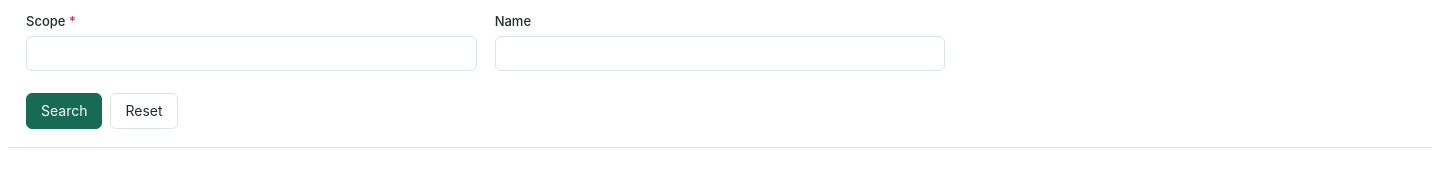
Test: instant validation blocks invalid filters and reset clears errors and searches exactly once
The image size is (1440, 185).
Type "bad" into the field labelled "Name".
click(720, 54); type("bad")  # box top-left (495, 36), bottom-right (945, 71)
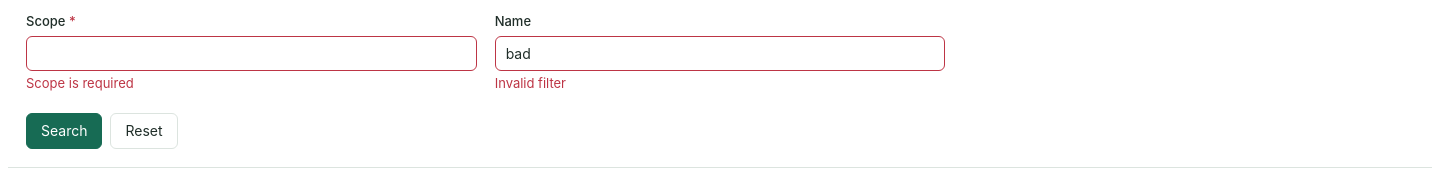
Expected: the text "Scope is required" is shown, top-left (26, 75), bottom-right (134, 91)
Expected: the text "Invalid filter" is shown, top-left (495, 75), bottom-right (566, 91)
Type "all" into the field labelled "Scope".
click(251, 54); type("all")  # box top-left (26, 36), bottom-right (477, 71)
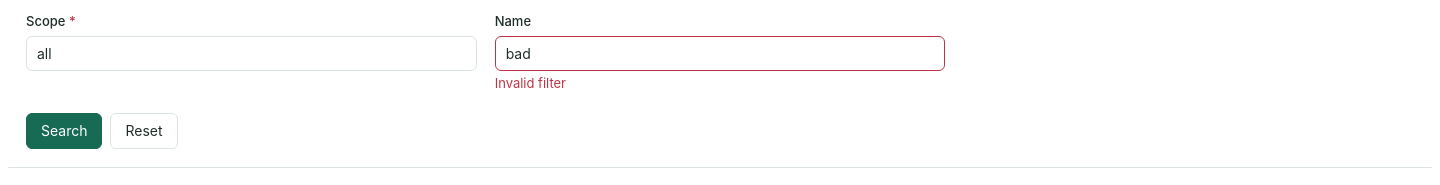
Replace the text in the field labelled "Name" with "good" at {"x": 720, "y": 54}, box top-left (495, 36), bottom-right (945, 71)
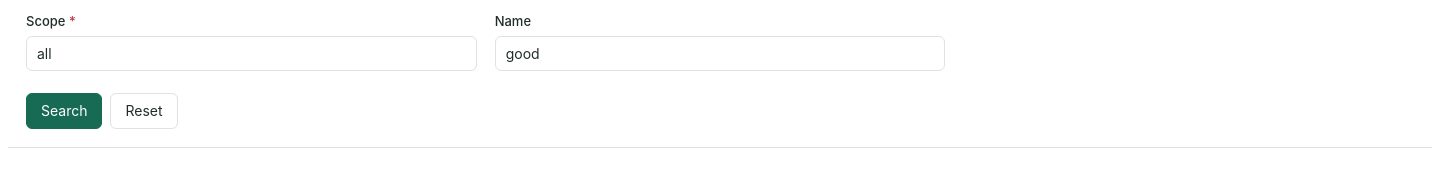
Replace the text in the field labelled "Name" with "bad" at {"x": 720, "y": 54}, box top-left (495, 36), bottom-right (945, 71)
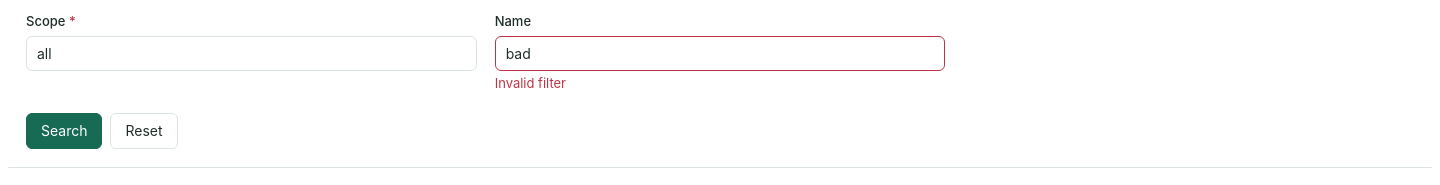
Expected: the text "Invalid filter" is shown, top-left (495, 75), bottom-right (566, 91)
Click the button "Reset".
click(144, 131)  # box top-left (110, 113), bottom-right (178, 149)
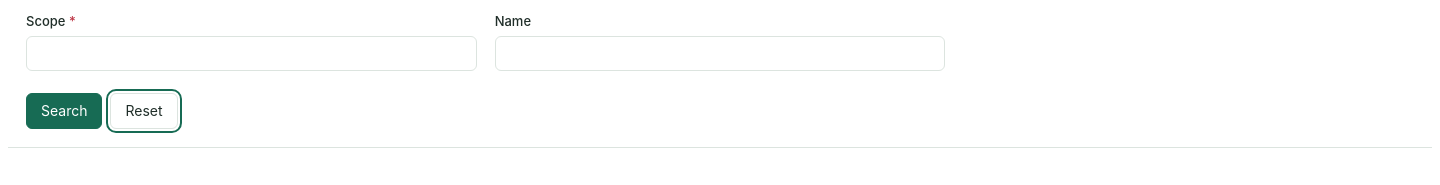
Expected: the message "Invalid filter" is gone
